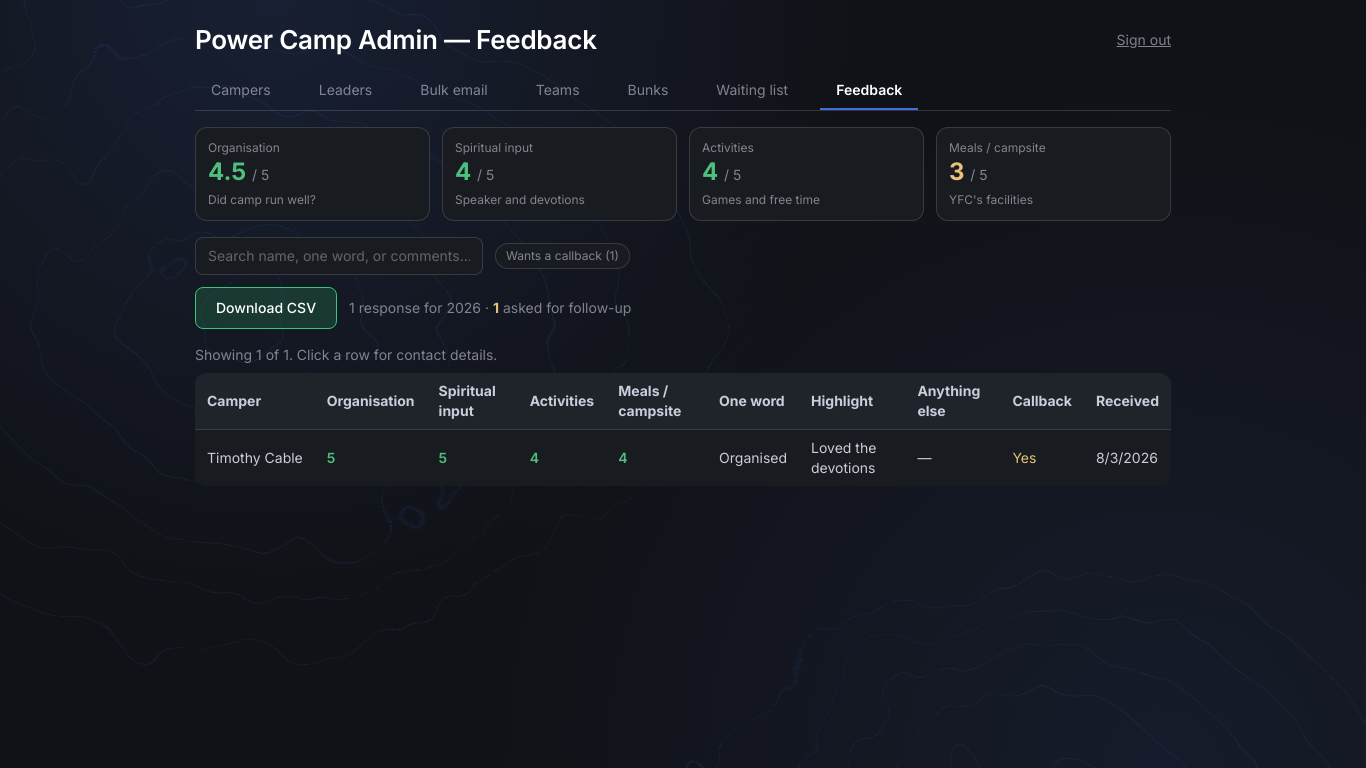
Scenario: AdminFeedbackComponent › shows contact details when a row is clicked
Click the row with test id "feedback-row-1". click: (255, 458)
box: [195,430,1171,486]
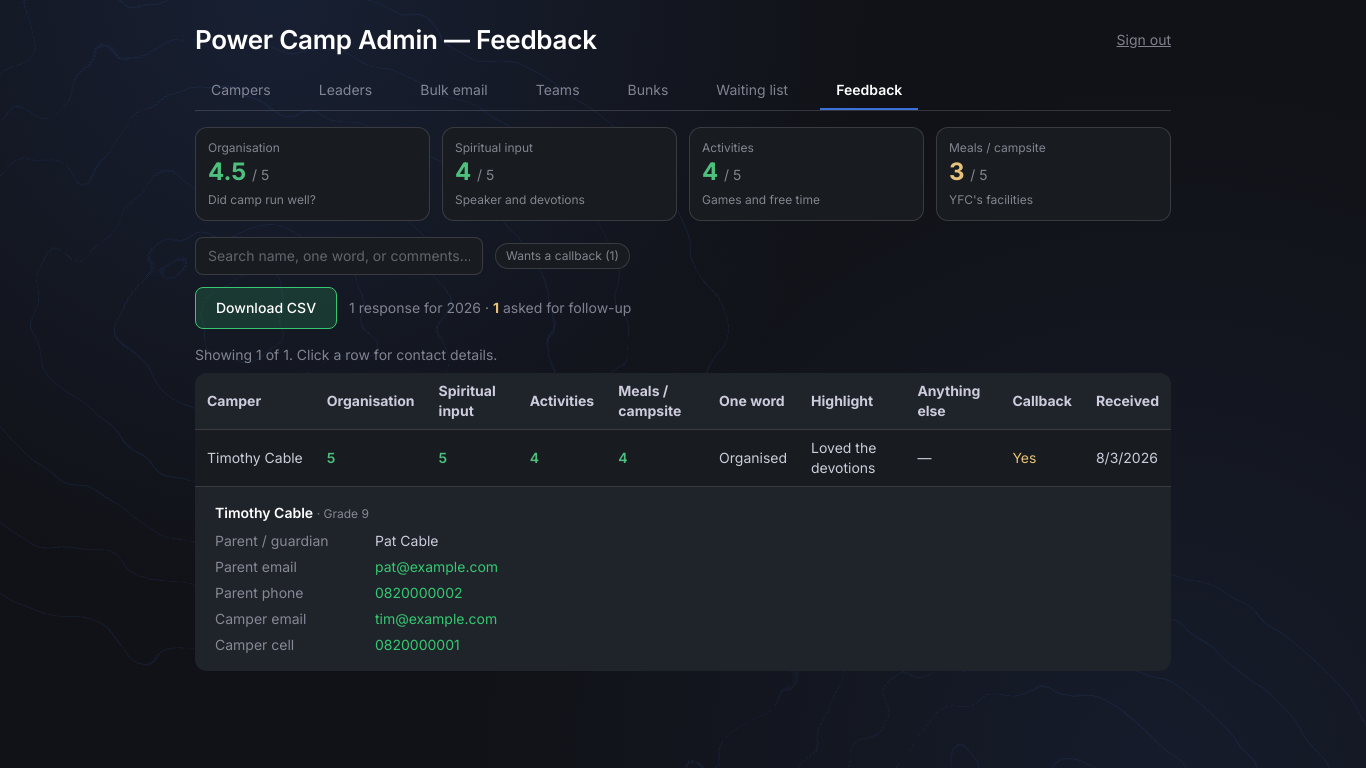
Now the row with test id "contact-row-1" is shown, box [195,486,1171,671]
Now the row with test id "contact-row-1" shows "pat@example.com", box [375,558,498,575]
Now the row with test id "contact-row-1" shows "0820000002", box [375,584,463,601]
